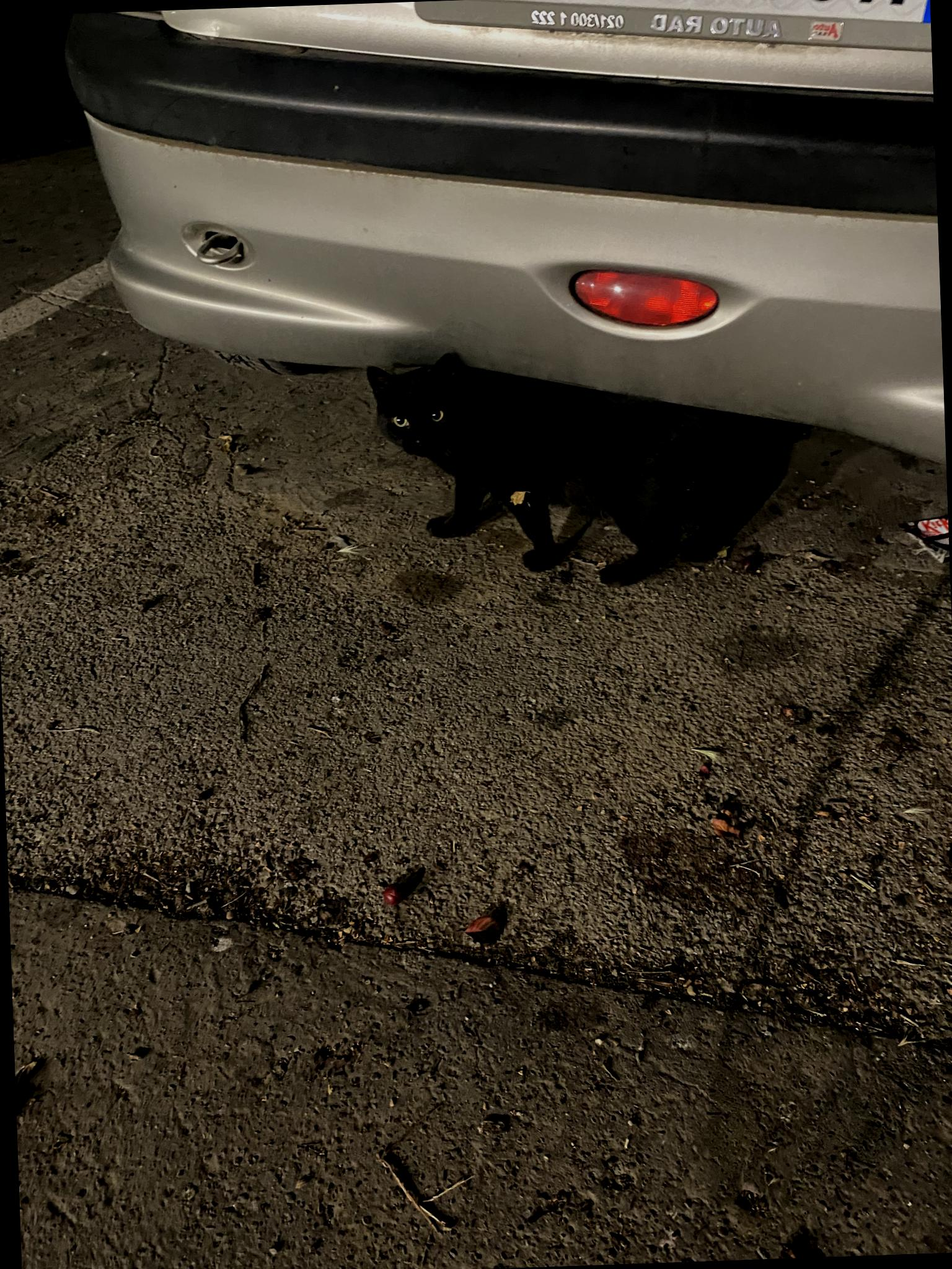macka: (364, 341, 734, 596)
